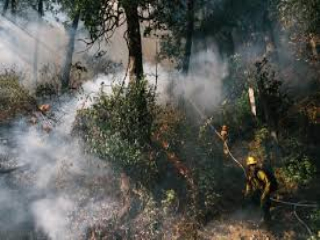smoke: (71, 58, 239, 118)
